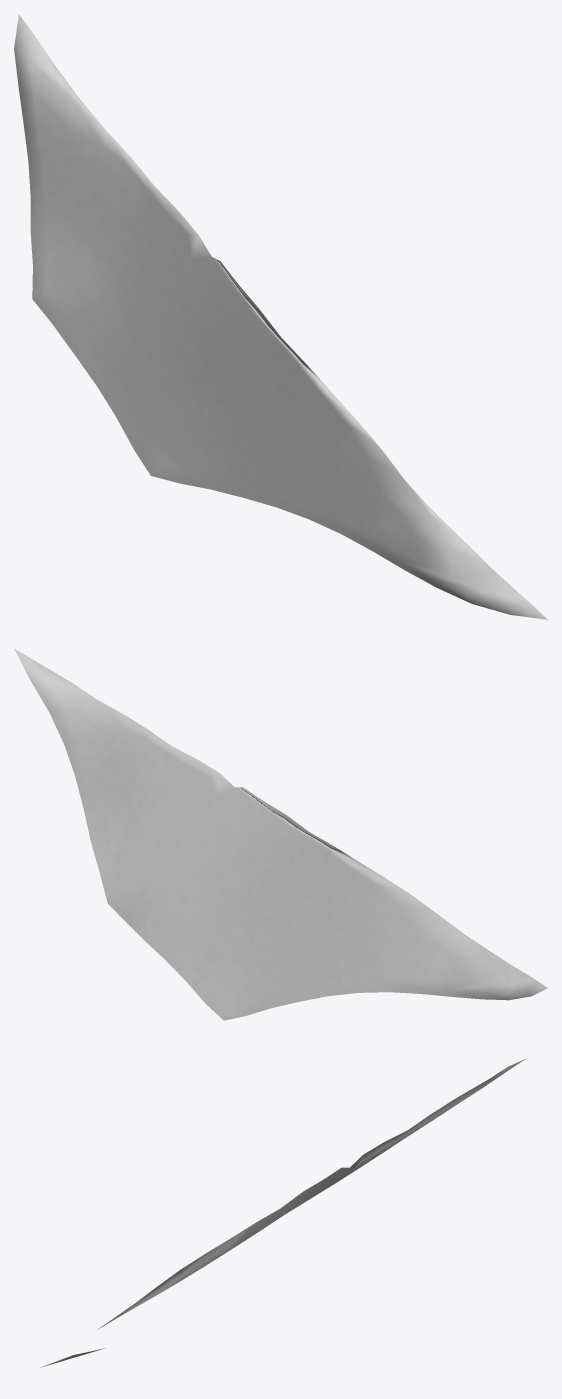
Rendered from Pants_Decor_Pocket_Left_V1.glb.
The picture shows the model from 3 angles, top to bottom: view 1: azimuth 90°, elevation 25°; view 2: azimuth 150°, elevation 25°; view 3: azimuth 270°, elevation 25°; orthographic projection.
Visible parts, largest first — view 1: Pants_Decor_Pocket_Left_V11; view 2: Pants_Decor_Pocket_Left_V11; view 3: Pants_Decor_Pocket_Left_V11.
Boxes of the visible parts, bbox=[...] form: Pants_Decor_Pocket_Left_V11: bbox=[14, 14, 547, 619]; Pants_Decor_Pocket_Left_V11: bbox=[14, 648, 547, 1020]; Pants_Decor_Pocket_Left_V11: bbox=[40, 1059, 525, 1367].
Bounding box in the file's own units: 0.0548 × 0.0879 × 0.0904.
Materials: 1 (1 with a texture image).
